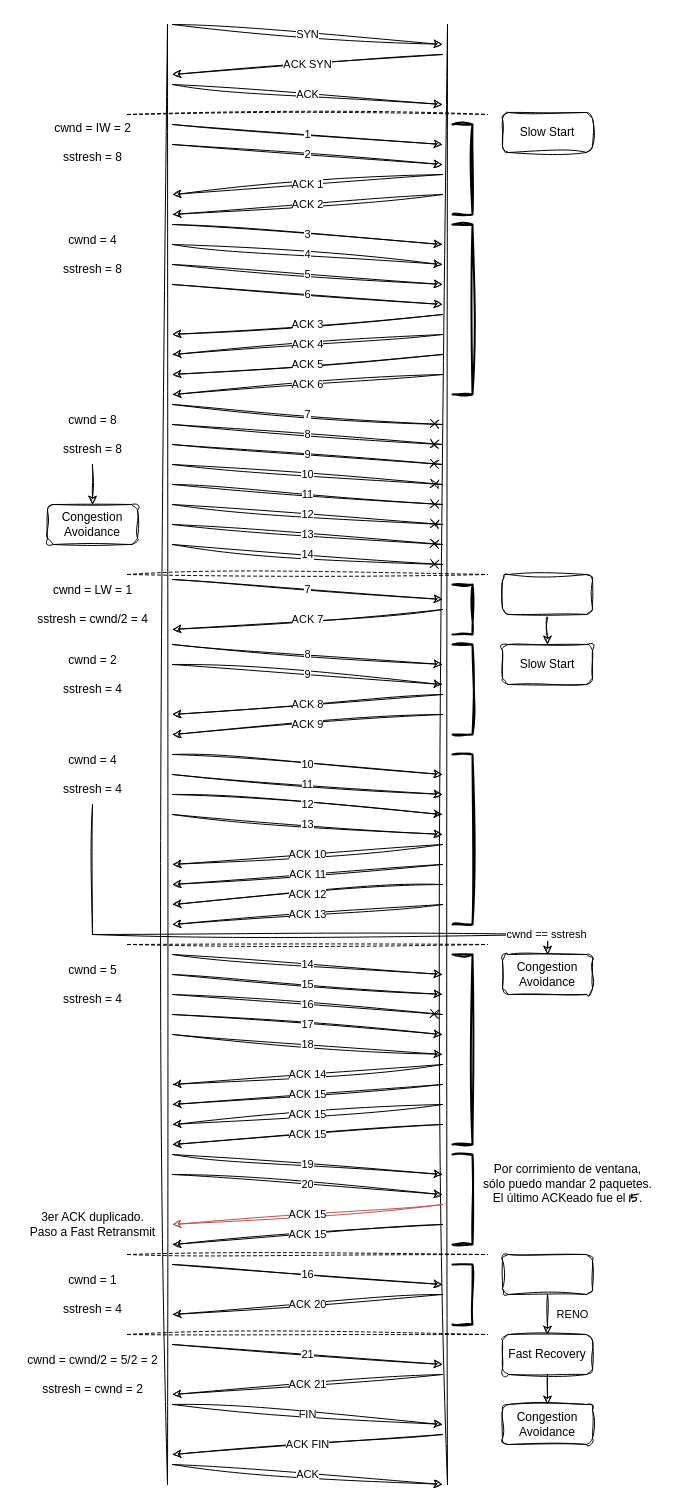
This 679x1510 diagram has some shape labels left out. Here are the shapes that lost their labels. From the top down, the centre of each, then its label:
At point 547,594: "RTO: Pérdida por Timeout".
At point 547,1274: "Fast Retransmit".
